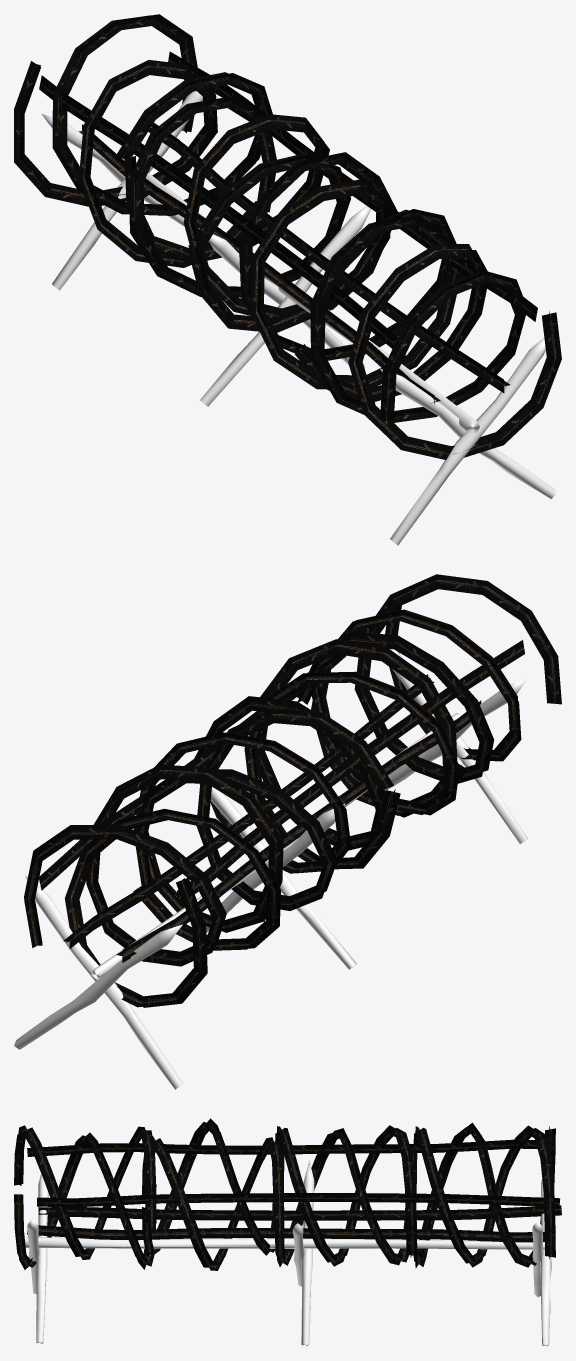
Rendered from WireFence.fbx.
3 renders of one model, top to bottom at view 1: azimuth 30°, elevation 25°; view 2: azimuth 150°, elevation 25°; view 3: azimuth 270°, elevation 25°, orthographic. The views are drawn at different scales.
Parts seen in each view (by area): view 1: WireFence; view 2: WireFence; view 3: WireFence.
Boxes of the visible parts, bbox=[...] form: WireFence: bbox=[14, 14, 561, 545]; WireFence: bbox=[14, 574, 561, 1089]; WireFence: bbox=[14, 1118, 561, 1346].
Size of the model in its own units: 86.86 by 101 by 268.
